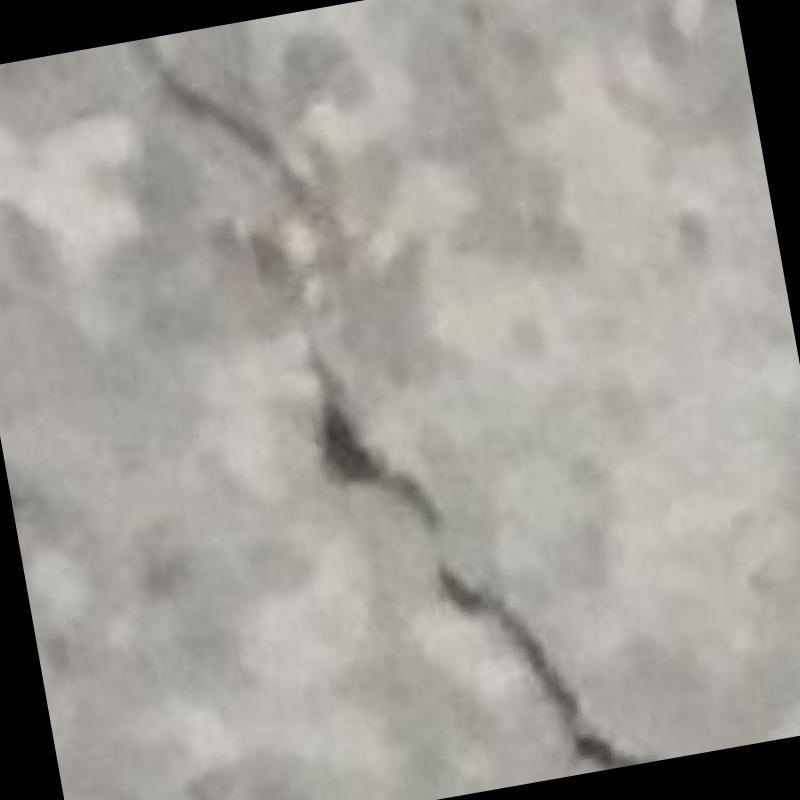crack: (132, 38, 647, 769)
